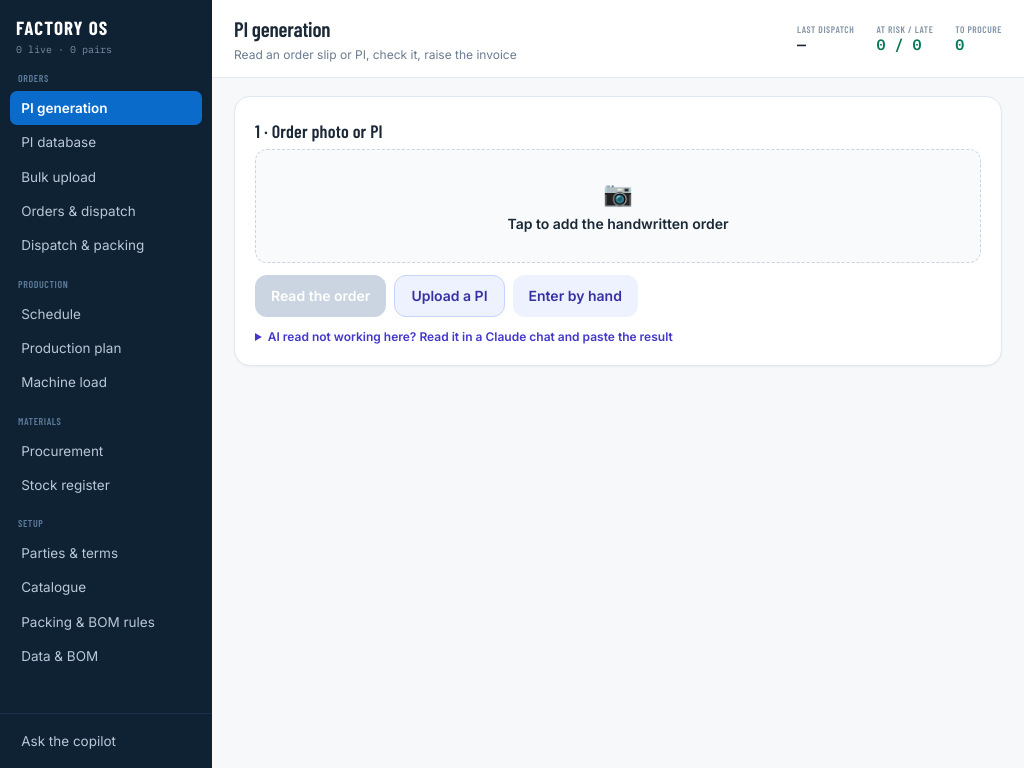
Test: critical UI contracts › links a PI database snapshot to the schedule only through the explicit action
Click the button "PI database" at [106, 142], box [10,125,202,160]
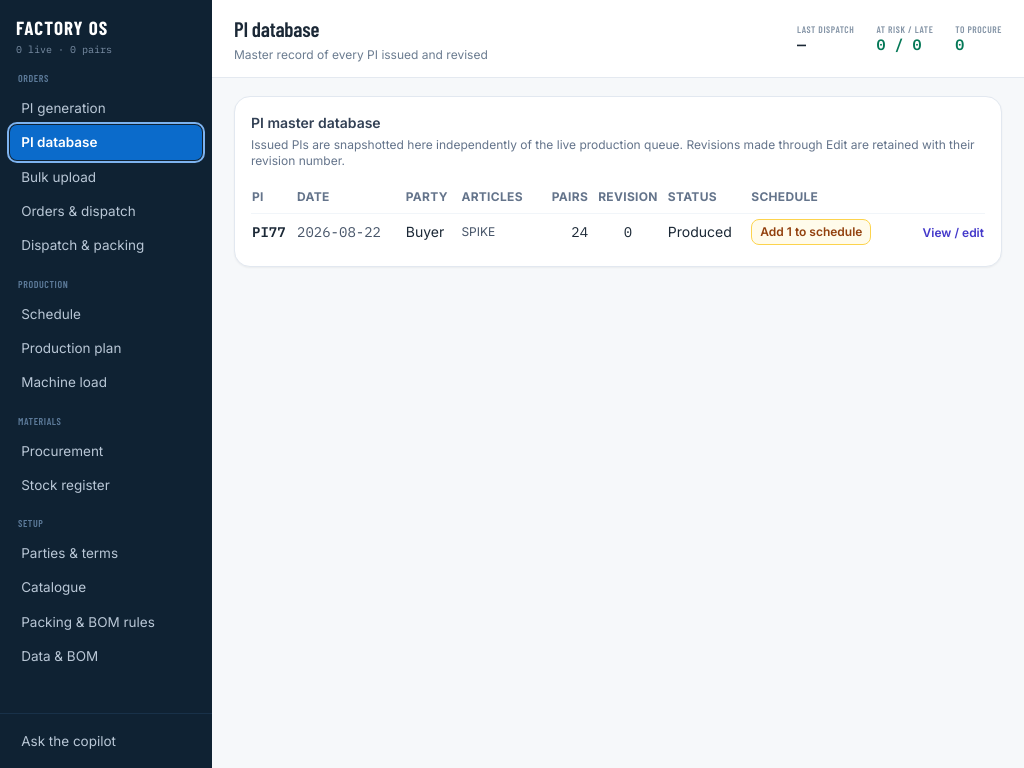
Click the button "Add 1 to schedule" at [811, 232], box [751,218,871,244]
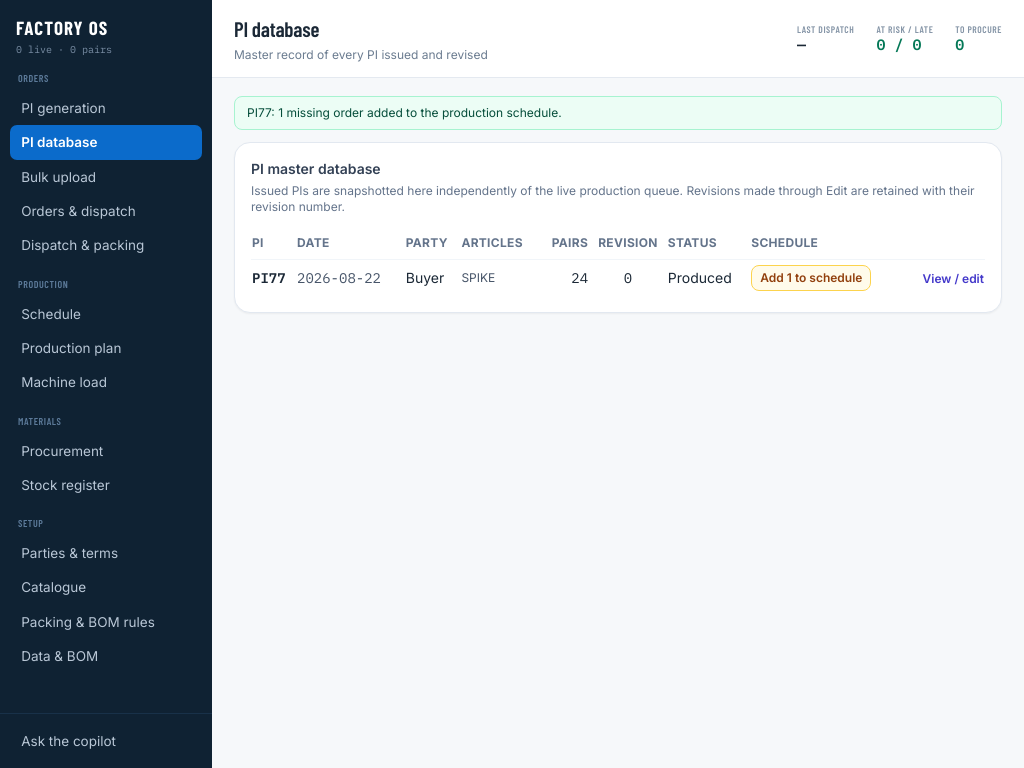
Expected: the text "PI77: 1 missing order added to the production schedule." is shown, [234,96,1002,130]
